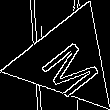M_NE: (31, 27, 102, 94)
